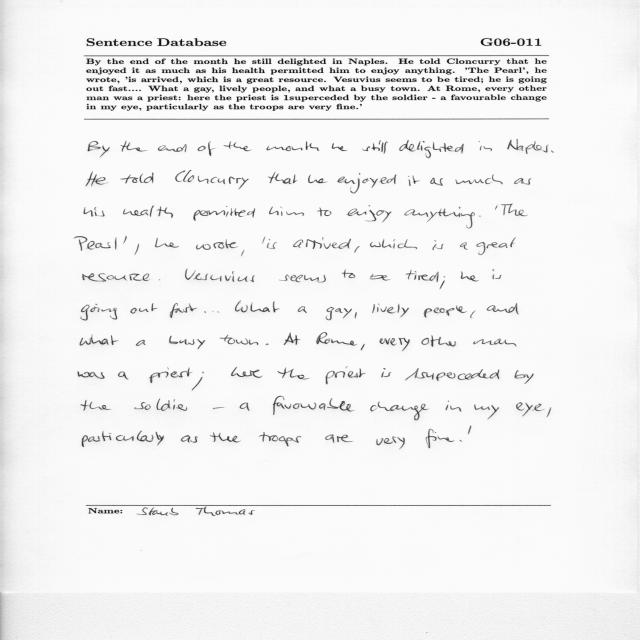word: (273, 396, 354, 415), (404, 207, 475, 228), (175, 171, 249, 190), (82, 431, 164, 447), (149, 368, 203, 391), (405, 368, 499, 381), (337, 173, 396, 193), (399, 140, 464, 158), (371, 402, 430, 421), (193, 206, 255, 221), (185, 270, 255, 283), (347, 206, 392, 223), (325, 367, 366, 384), (293, 237, 351, 249), (134, 398, 187, 411), (476, 238, 516, 255), (74, 236, 117, 251), (507, 139, 549, 154), (81, 304, 117, 321), (123, 206, 173, 218), (83, 273, 149, 282), (259, 432, 301, 446), (423, 305, 467, 318), (316, 333, 357, 346), (426, 429, 454, 448), (372, 304, 409, 317), (169, 336, 206, 349), (455, 175, 503, 185), (267, 142, 320, 151), (370, 239, 417, 249), (196, 239, 238, 250), (240, 301, 280, 312), (80, 335, 119, 346), (421, 335, 456, 347), (170, 303, 197, 318), (406, 270, 439, 282), (516, 403, 544, 417), (220, 335, 259, 345), (380, 338, 410, 351), (376, 437, 405, 450), (279, 275, 326, 283), (474, 405, 499, 420), (120, 173, 154, 184), (363, 140, 389, 154), (88, 141, 110, 157), (487, 304, 519, 315), (473, 339, 517, 347), (278, 368, 310, 379), (325, 307, 352, 320), (268, 172, 297, 184), (86, 171, 109, 186), (231, 367, 262, 378), (81, 400, 111, 411), (501, 204, 528, 216), (269, 207, 304, 216), (210, 432, 241, 442), (130, 303, 158, 314), (121, 141, 148, 152), (224, 142, 252, 152), (198, 141, 216, 156), (515, 370, 534, 384), (325, 434, 353, 443), (155, 238, 179, 248), (158, 144, 187, 152), (78, 371, 105, 379), (84, 207, 104, 217), (284, 333, 300, 345), (461, 272, 479, 282), (446, 401, 462, 412), (308, 175, 327, 183), (235, 302, 248, 313), (370, 274, 390, 281), (181, 435, 198, 443), (479, 141, 492, 151), (317, 208, 331, 217), (332, 143, 347, 151), (408, 176, 420, 186), (432, 240, 444, 250), (514, 178, 531, 185), (430, 178, 443, 186), (342, 270, 355, 278), (267, 239, 277, 249), (381, 368, 392, 377), (493, 270, 502, 280), (118, 372, 129, 380), (240, 403, 250, 411), (440, 276, 445, 289), (460, 242, 468, 250), (298, 306, 307, 313), (136, 340, 145, 346), (135, 244, 139, 255), (354, 246, 360, 253), (470, 311, 476, 318), (547, 407, 551, 417), (123, 236, 127, 244), (204, 311, 219, 313), (361, 344, 365, 350), (468, 426, 471, 434), (213, 407, 224, 409), (263, 237, 266, 244), (241, 250, 244, 256), (355, 312, 357, 319), (495, 206, 498, 210), (551, 150, 554, 153), (459, 440, 462, 442), (202, 372, 204, 374), (266, 344, 269, 345), (479, 216, 481, 217), (159, 279, 160, 280)
